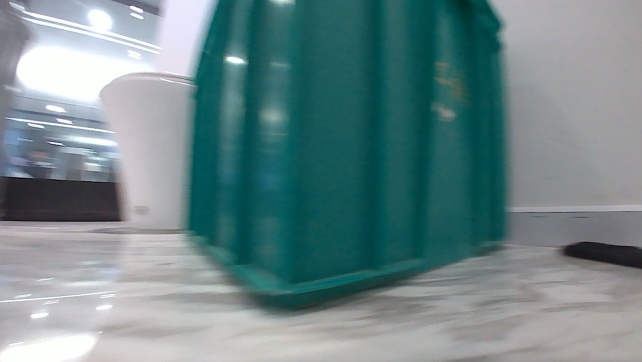socks: (558, 235, 641, 270)
toilet: (93, 66, 192, 231)
